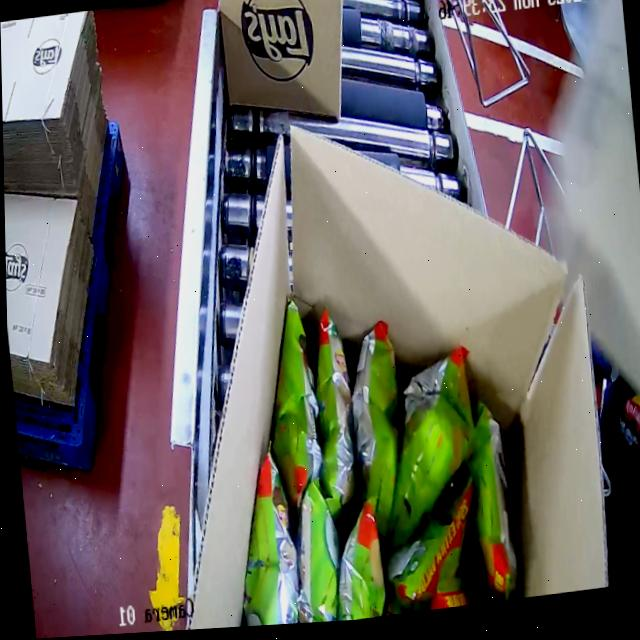YOGURT_HERB: (202, 272, 533, 628)
